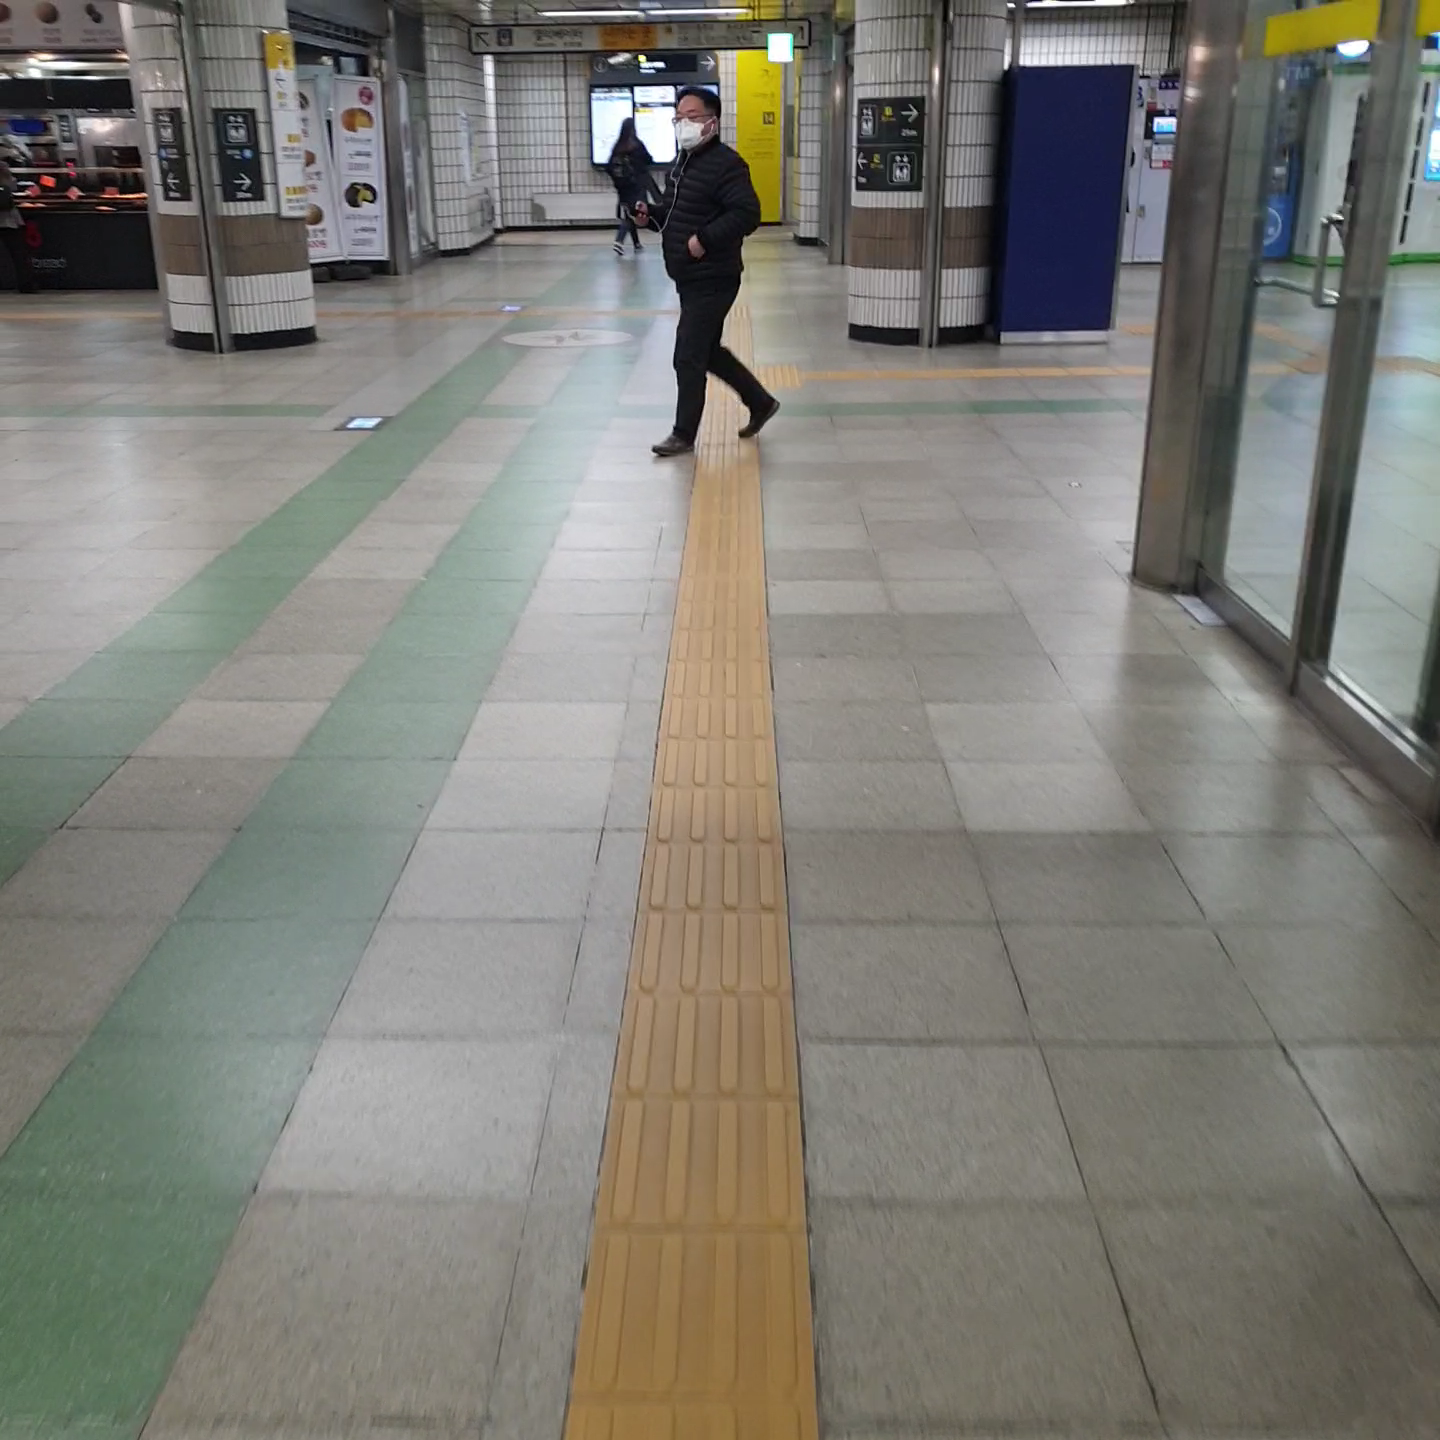line: (585, 1215, 821, 1396), (613, 1092, 812, 1229), (613, 989, 803, 1103), (632, 903, 803, 992), (638, 838, 792, 918), (647, 786, 783, 842), (650, 741, 785, 790), (655, 694, 780, 745), (682, 530, 767, 594), (659, 659, 771, 702), (673, 589, 773, 633), (664, 626, 770, 663)
person: (631, 86, 777, 453)
